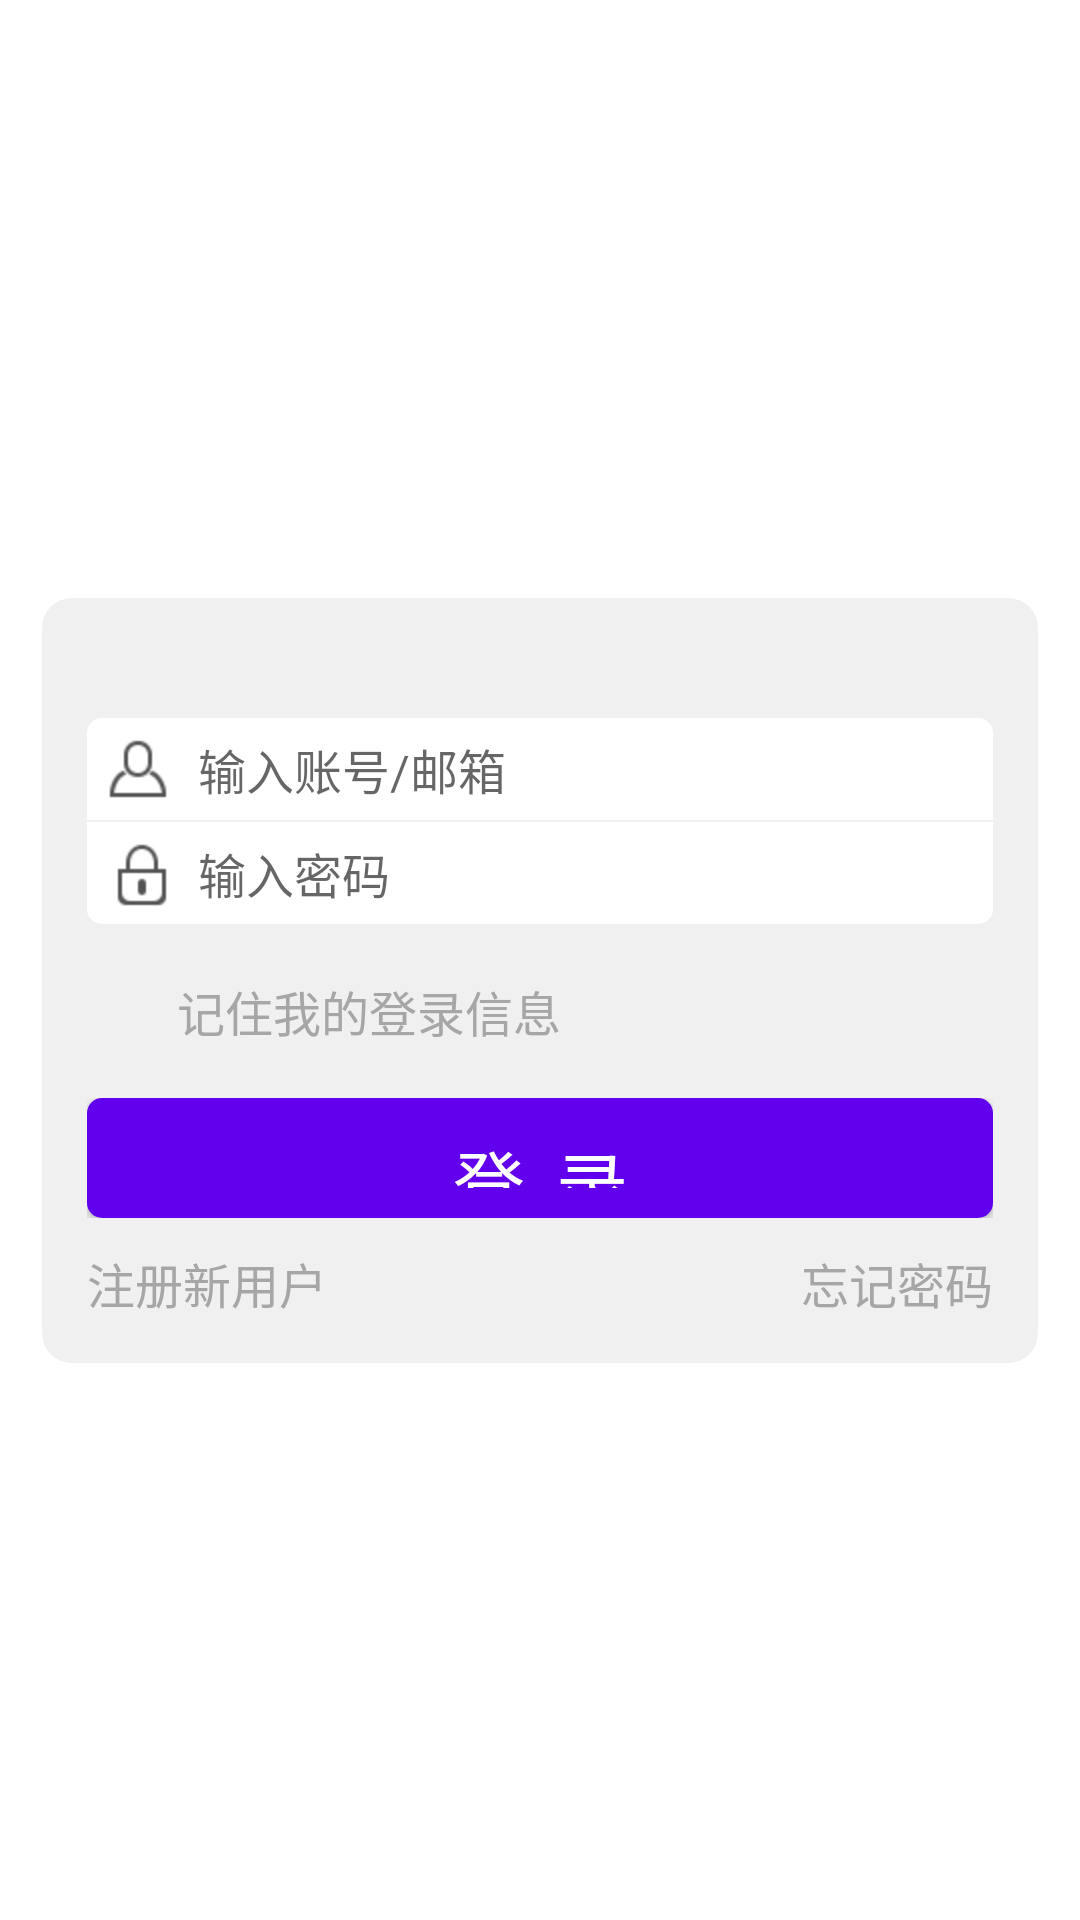

Icon click points for this 1080w x 1920h phone screenshot, format (x,y):
account: (138,769)
password: (142,875)
